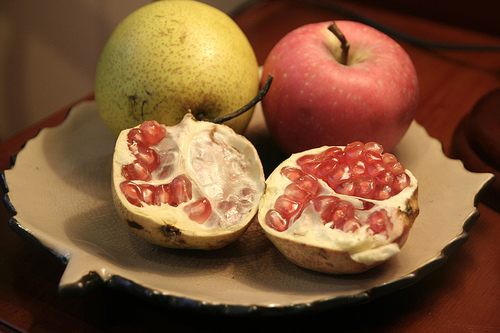pomogranate: (112, 114, 263, 250), (260, 143, 416, 274)
